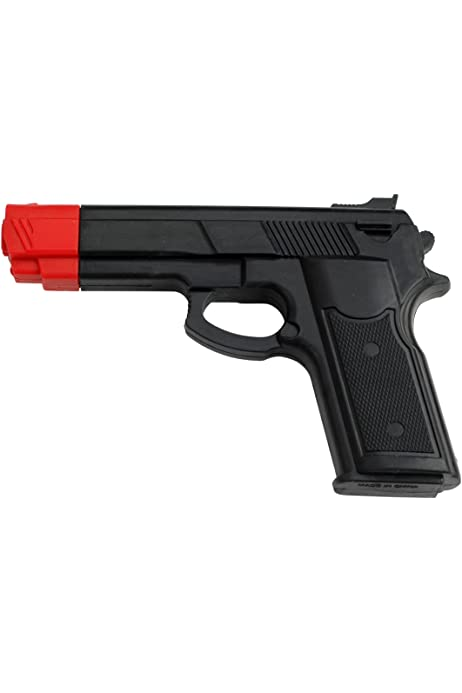Arma Falsa: (1, 190, 461, 517)
